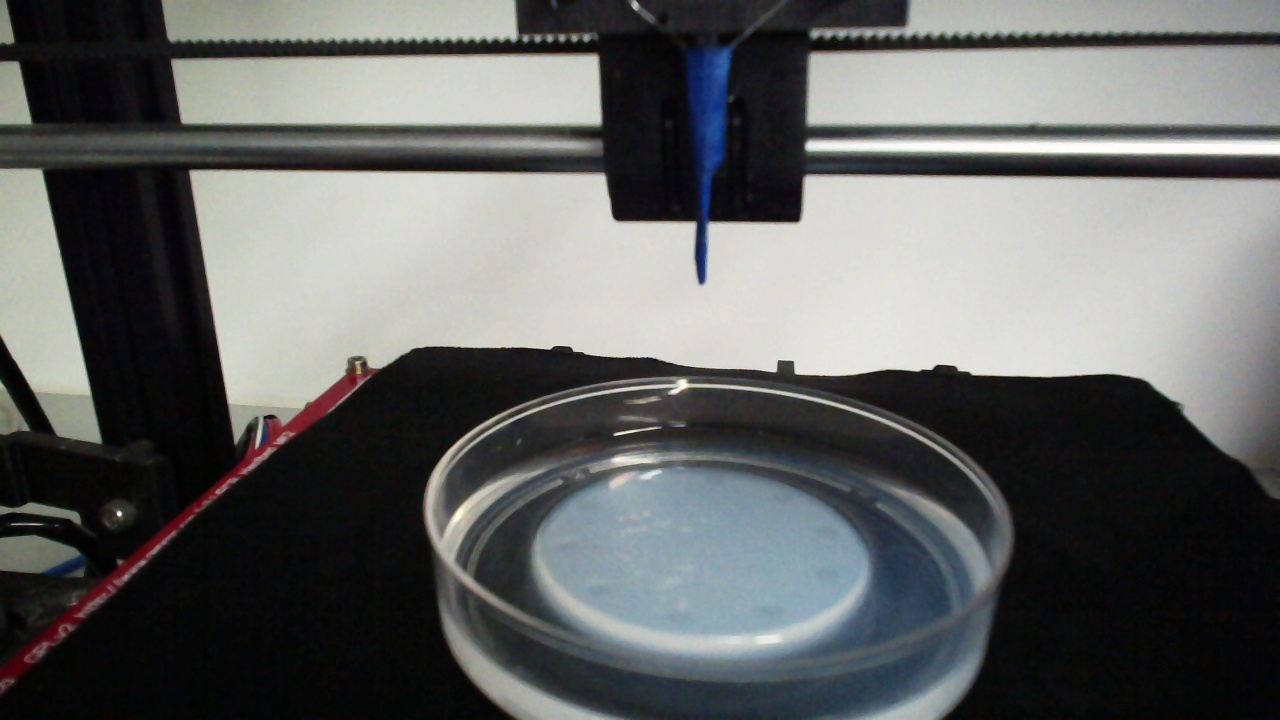groove: (665, 609, 699, 634), (814, 565, 846, 590), (755, 600, 787, 622), (584, 579, 614, 602), (550, 538, 582, 559), (812, 523, 842, 543), (576, 495, 606, 515), (771, 486, 796, 505), (701, 469, 727, 486)
needle: (690, 50, 732, 284)
